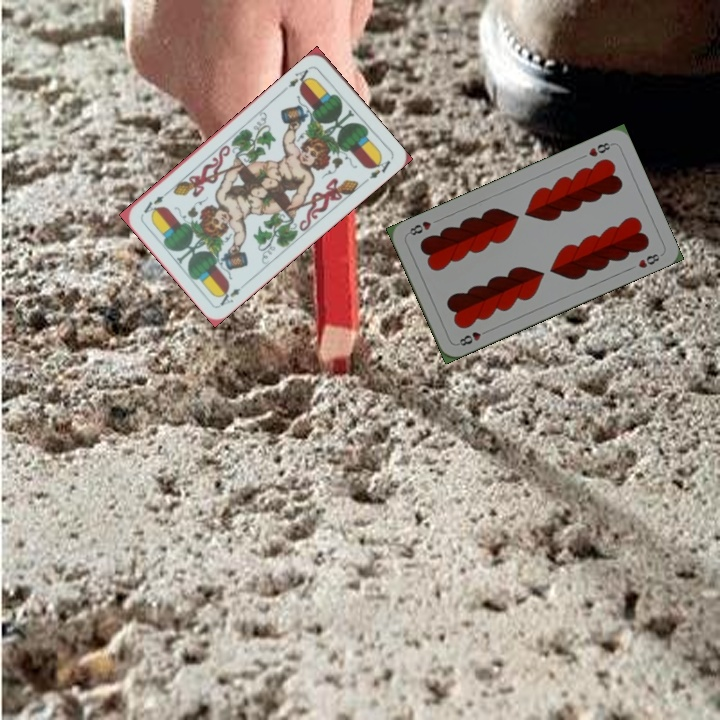EA: (215, 278, 250, 309), (284, 62, 314, 90)
H8: (453, 325, 492, 349), (584, 138, 615, 159)
